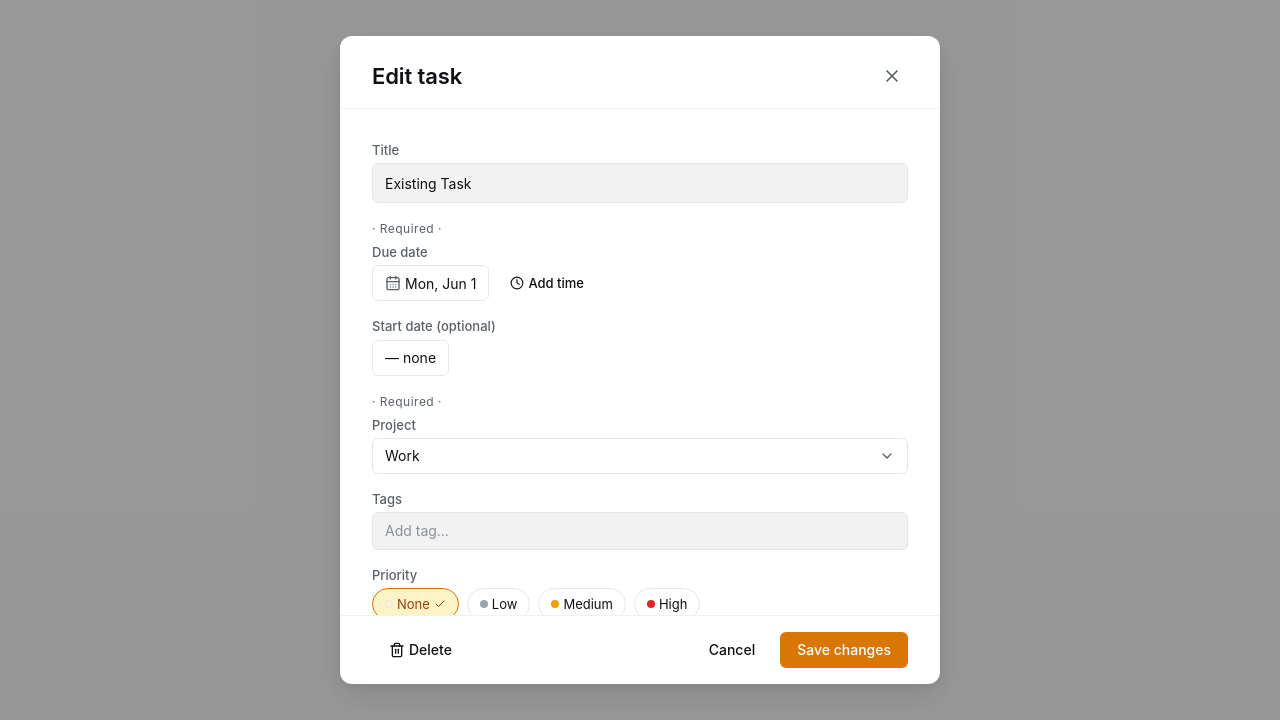
Test: TaskModal — edit mode › edit mode: clicking Delete shows "Move to Trash?" confirmation
Click the button with aria-label "delete task": [420, 650] box left=372, top=632, right=469, bottom=668
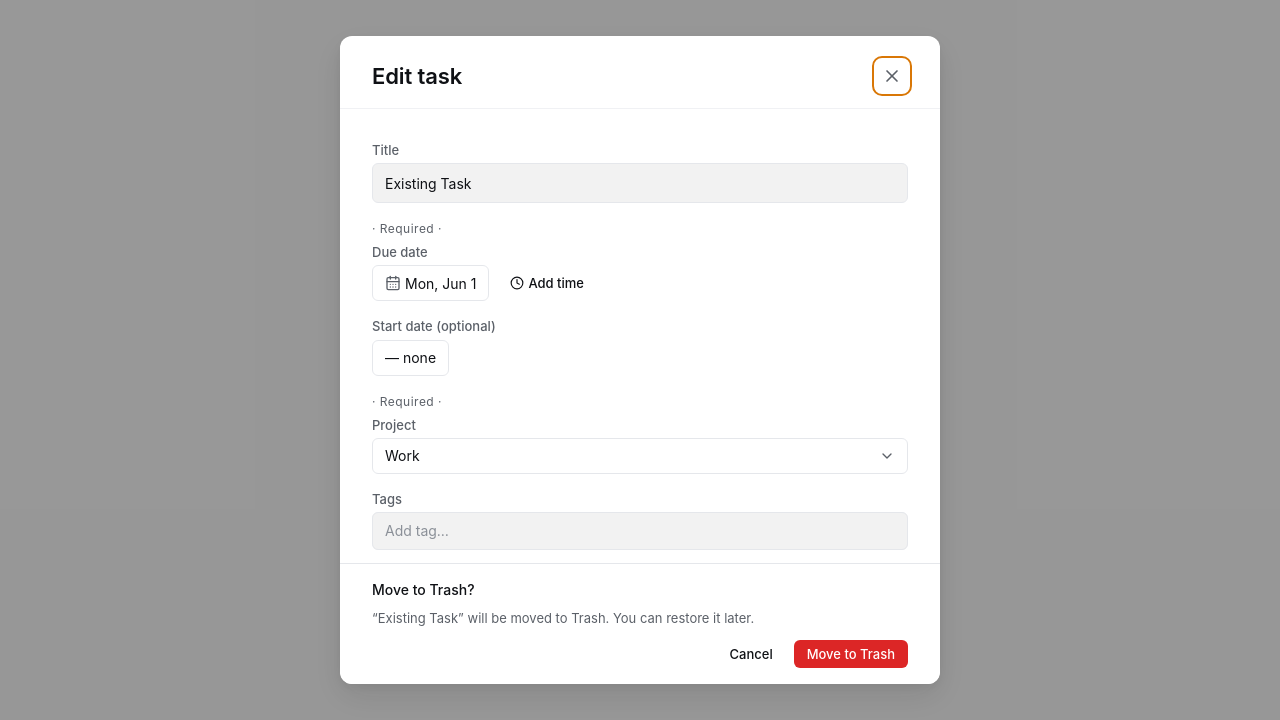
Check: the text "Move to Trash?" is shown, box left=372, top=581, right=474, bottom=598
